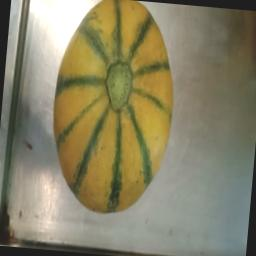Melon Ripe: (34, 0, 189, 223)
